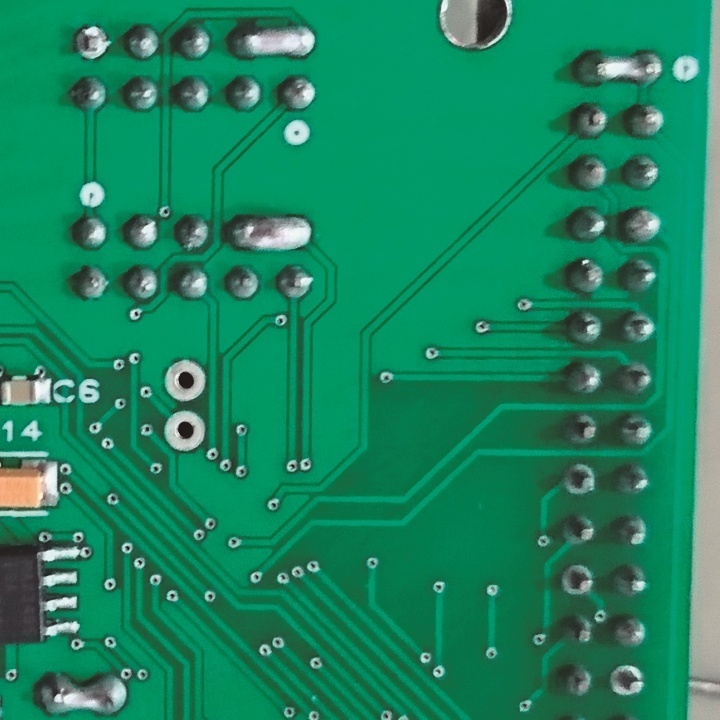F: (164, 358, 209, 406), (161, 412, 207, 455), (73, 20, 110, 66), (564, 458, 598, 504), (559, 563, 599, 602), (608, 660, 647, 698)
P: (30, 668, 131, 720), (224, 22, 327, 62), (226, 212, 317, 256), (576, 50, 666, 91)
